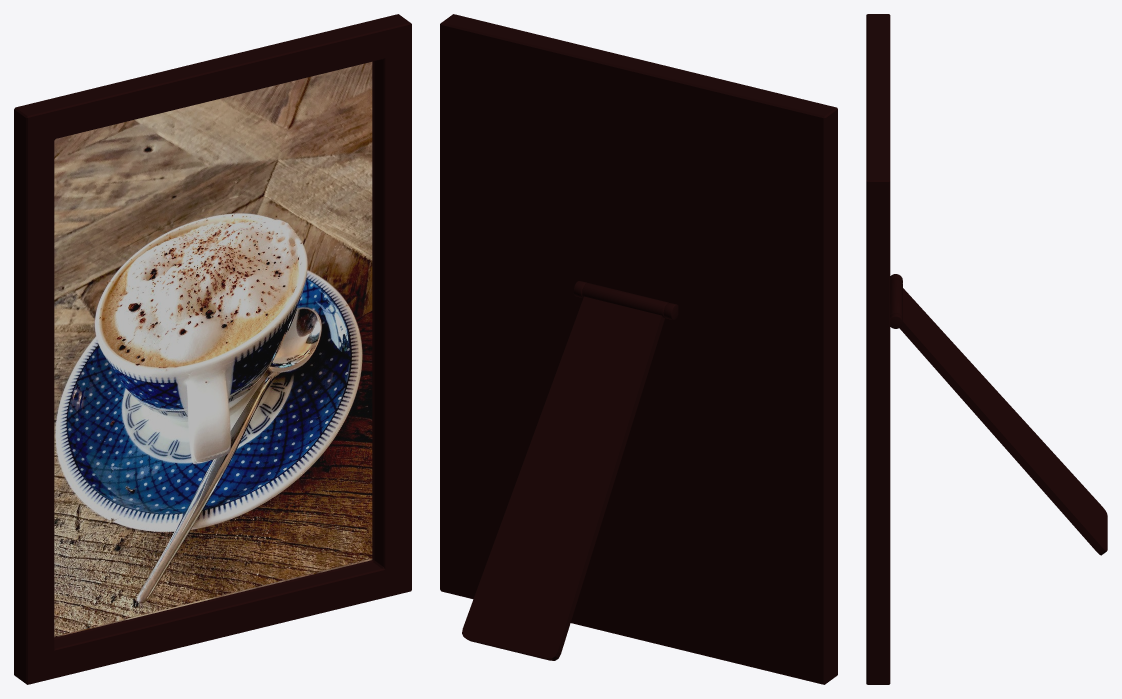
Rendered from aws_DeskPortraitB_01_visual.DAE.
3 views of the same model, side by side, from view 1: azimuth 30°, elevation 25°; view 2: azimuth 150°, elevation 25°; view 3: azimuth 270°, elevation 25° (orthographic). The views are drawn at different scales.
Visible parts, largest first — view 1: aws_DeskPortraitB_01_visual; view 2: aws_DeskPortraitB_01_visual; view 3: aws_DeskPortraitB_01_visual.
Part boxes in pixels (x1,y1,x2,y2): aws_DeskPortraitB_01_visual: (14, 14, 411, 684); aws_DeskPortraitB_01_visual: (440, 14, 837, 684); aws_DeskPortraitB_01_visual: (866, 14, 1107, 684).
Bounding box in the file's own units: 16.83 × 10.26 × 23.71.
Materials: 2 (2 with a texture image).
